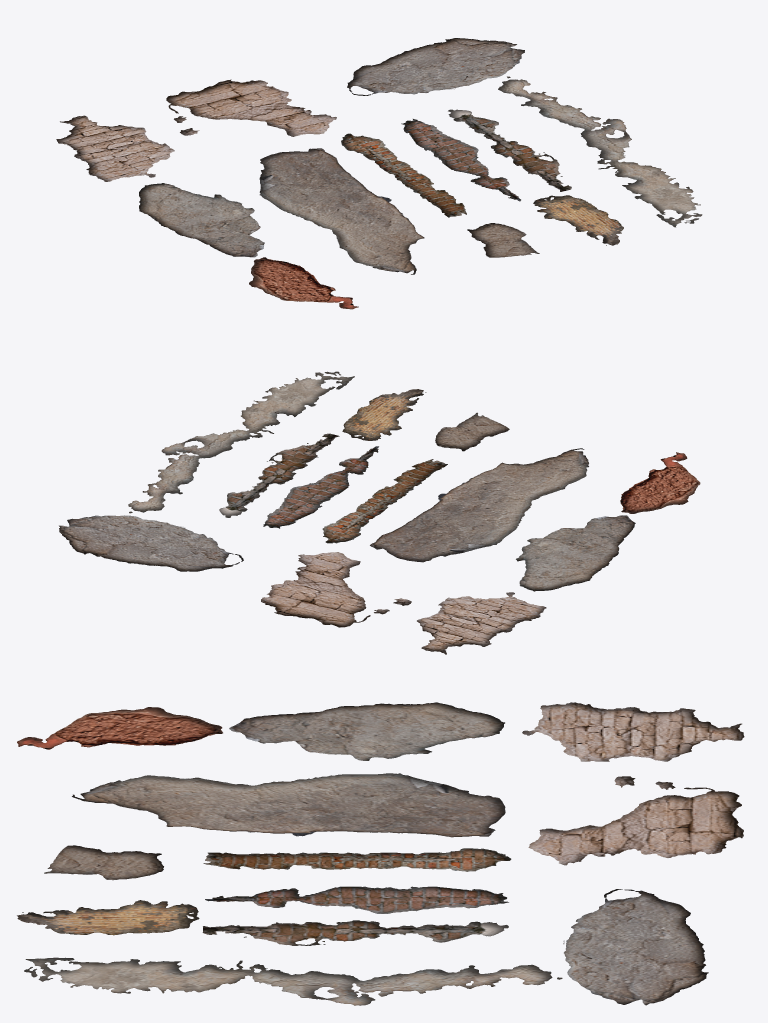
File: DecalsGroup_02.fbx
3 views of the same model, one above another, from view 1: azimuth 30°, elevation 25°; view 2: azimuth 150°, elevation 25°; view 3: azimuth 270°, elevation 25° (orthographic). The views are drawn at different scales.
Parts seen in each view (by area): view 1: Decal_010, Decal_08, Decal_017, Decal_09, Decal_07, Decal_06, Decal_014, Decal_012, Decal_011, Decal_016, Decal_013, Decal_015; view 2: Decal_010, Decal_08, Decal_017, Decal_09, Decal_07, Decal_06, Decal_014, Decal_012, Decal_011, Decal_013, Decal_016, Decal_015; view 3: Decal_010, Decal_08, Decal_017, Decal_09, Decal_07, Decal_06, Decal_014, Decal_012, Decal_011, Decal_013, Decal_016, Decal_015.
Part boxes in pixels (x1,y1,x2,y2): Decal_010: (259,148,424,274); Decal_08: (347,38,524,95); Decal_017: (498,76,702,227); Decal_09: (139,183,264,259); Decal_07: (166,79,336,136); Decal_06: (56,115,174,181); Decal_014: (249,257,358,309); Decal_012: (401,119,520,201); Decal_011: (341,133,466,217); Decal_016: (533,195,623,245); Decal_013: (448,88,571,191); Decal_015: (467,223,539,257); Decal_010: (370,448,588,562); Decal_08: (59,515,243,571); Decal_017: (128,371,354,522); Decal_09: (516,511,635,591); Decal_07: (261,552,411,627); Decal_06: (417,592,546,654); Decal_014: (620,452,700,513); Decal_012: (263,446,378,528); Decal_011: (322,459,447,543); Decal_013: (180,433,339,527); Decal_016: (342,389,426,440); Decal_015: (435,412,509,451); Decal_010: (72,773,505,837); Decal_08: (564,889,708,1005); Decal_017: (24,944,564,1005); Decal_09: (221,702,504,760); Decal_07: (528,776,743,865); Decal_06: (522,702,744,761); Decal_014: (17,707,221,749); Decal_012: (205,886,508,913); Decal_011: (203,848,511,871); Decal_013: (202,920,564,944); Decal_016: (17,900,199,935); Decal_015: (44,845,163,880).
Bounding box in the file's own units: 1 × 2.22e-16 × 1.
